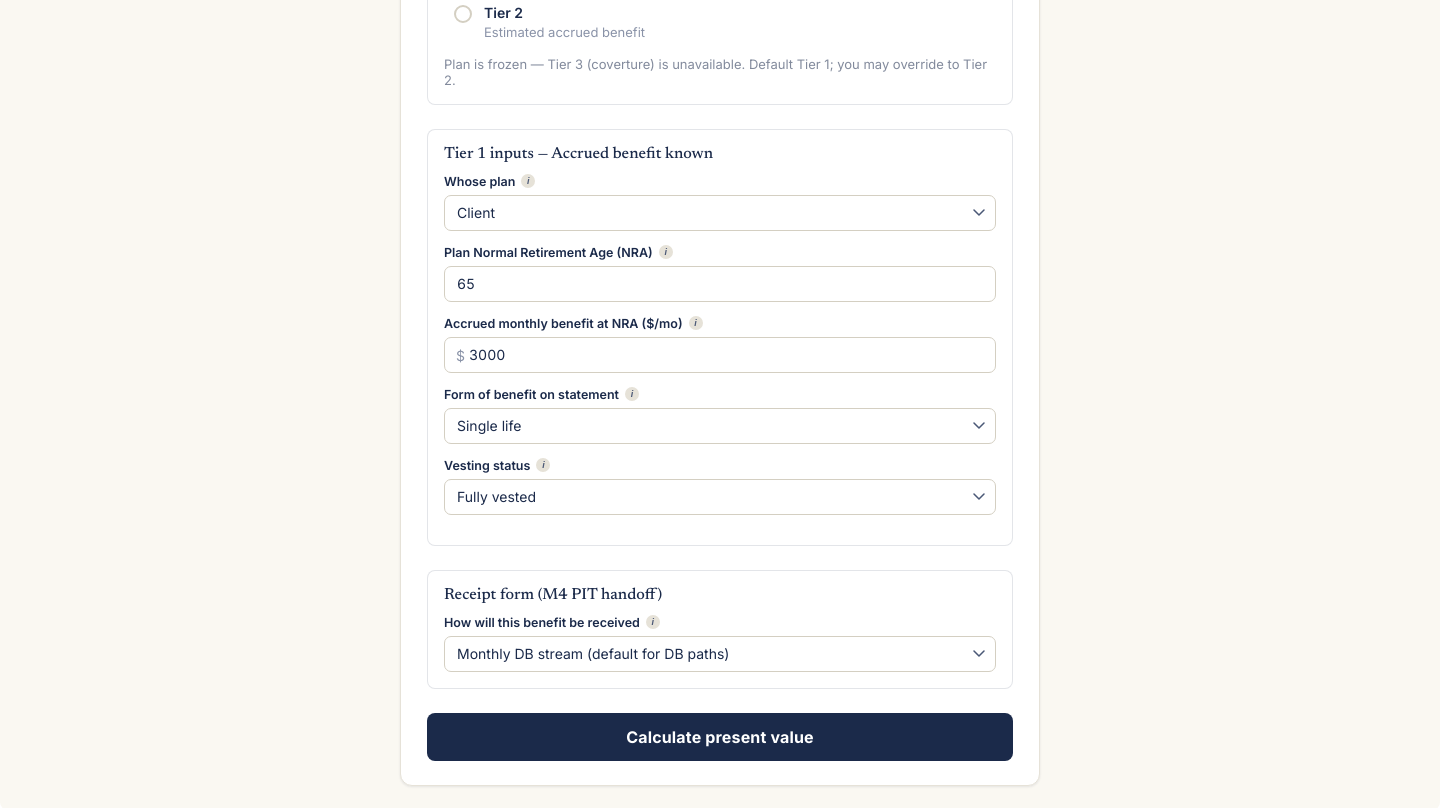
Test: PVA orchestrator (§7.10.3 / LL-17) › TC-PVA-Orchestrator-8: seedOverride for frozen_routing_banner surfaces frozen banner over Tier 1 numbers
This screenshot has width=1440, height=808.
(page scrolled)
Click the button "Calculate present value". click: click(720, 737)
box: [427,713,1013,761]
(page scrolled)
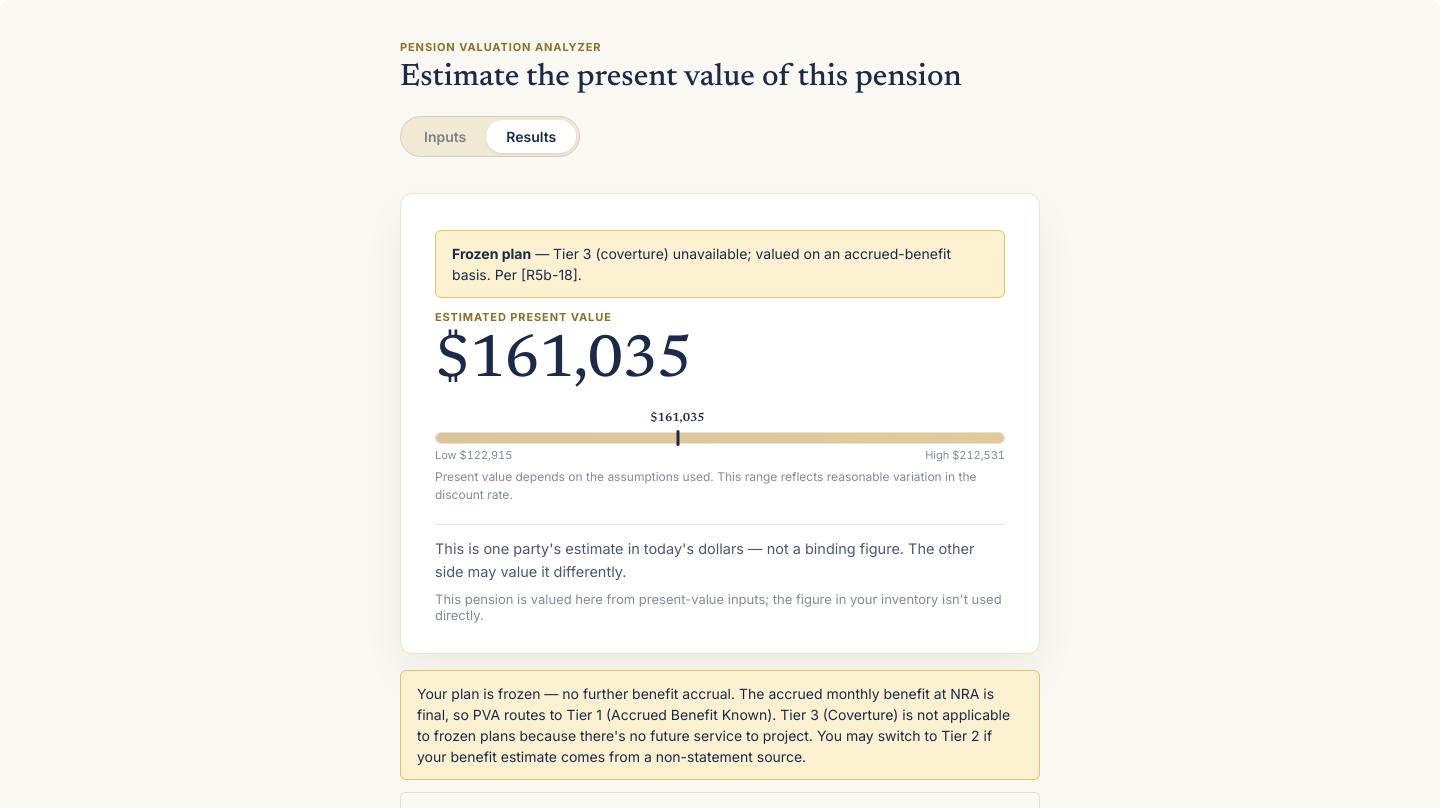
Expected: the element with test id "pva-banner-frozen" is shown, [435,230,1005,298]
Expected: the text with test id "pva-bignumber-headline" is shown, [435,332,692,392]
